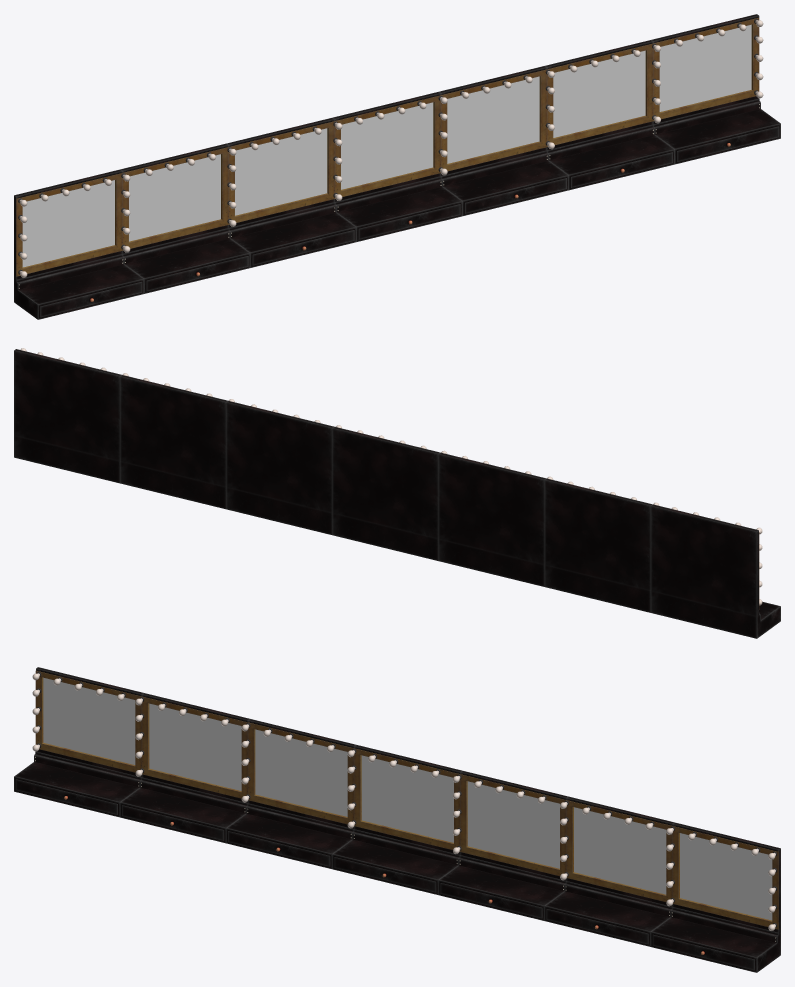
Rendered from SM_Dressing_Table_Extended.fbx.
3 views of the same model, one above another, from view 1: azimuth 30°, elevation 25°; view 2: azimuth 150°, elevation 25°; view 3: azimuth 330°, elevation 25° (orthographic).
Parts seen in each view (by area): view 1: SM_Dressing_Table_Extended; view 2: SM_Dressing_Table_Extended; view 3: SM_Dressing_Table_Extended.
Boxes of the visible parts, <box> form: SM_Dressing_Table_Extended: <box>14,14,780,319</box>; SM_Dressing_Table_Extended: <box>14,348,780,638</box>; SM_Dressing_Table_Extended: <box>14,667,780,972</box>.
Size of the model in its own units: 1092 by 150 by 66.08.
